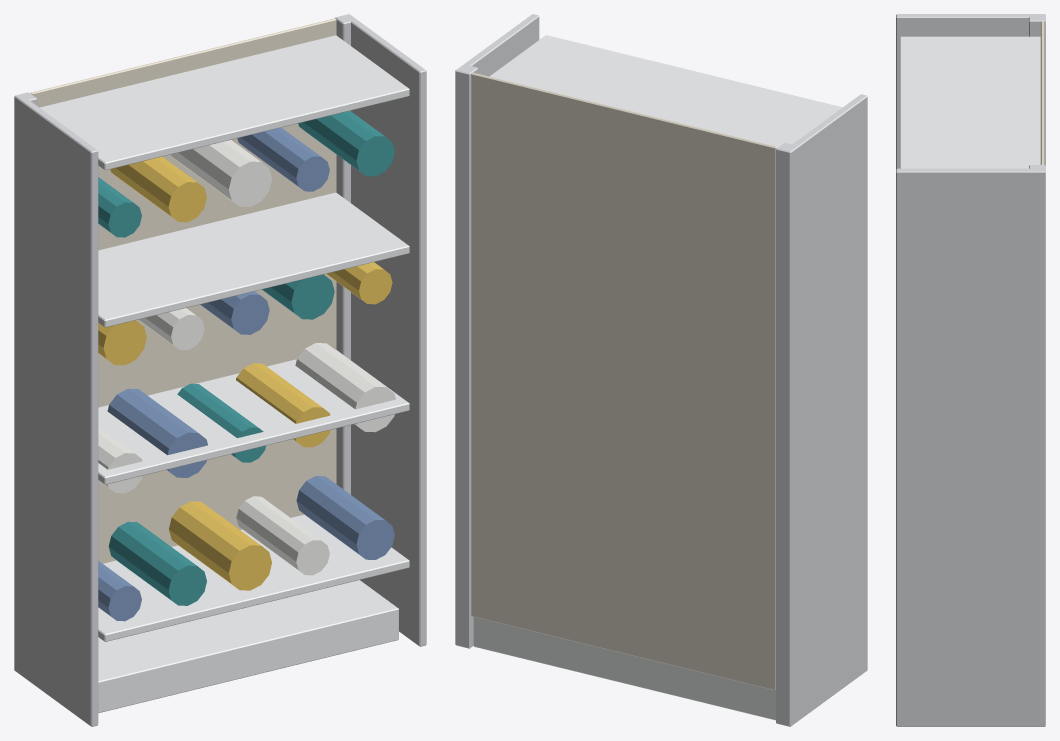
File: dry-cleaners-and-alterations-shop-fabric-bolt-shelf-05ada191__34972.glb
3 renders of one model, left to right at view 1: azimuth 30°, elevation 25°; view 2: azimuth 150°, elevation 25°; view 3: azimuth 270°, elevation 25°, orthographic. The views are drawn at different scales.
Visible parts, largest first — view 1: fabric-bolt-shelf; view 2: fabric-bolt-shelf; view 3: fabric-bolt-shelf.
Part boxes in pixels (x1,y1,x2,y2): fabric-bolt-shelf: (14,14,426,726); fabric-bolt-shelf: (455,14,867,726); fabric-bolt-shelf: (896,14,1045,726).
Bounding box in the file's own units: 1.1 × 1.8 × 0.4399.
